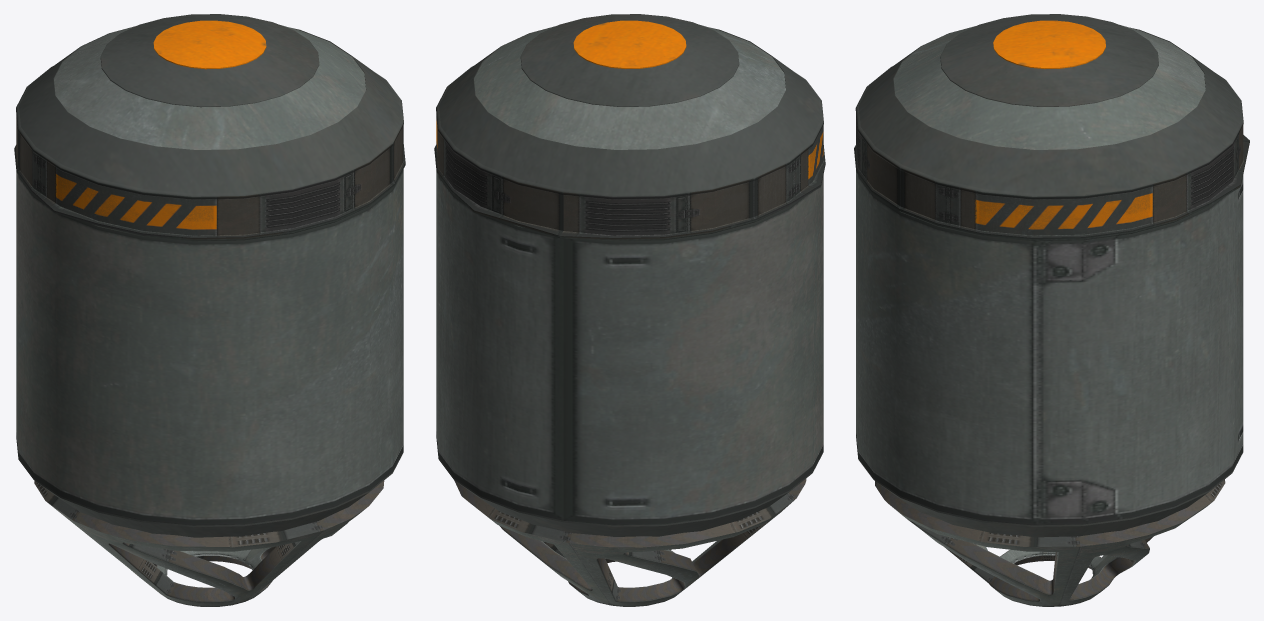
The model's file is OilTank_big.FBX.
3 views of the same model, side by side, from view 1: azimuth 30°, elevation 25°; view 2: azimuth 150°, elevation 25°; view 3: azimuth 270°, elevation 25° (orthographic).
Visible parts, largest first — view 1: OilTank_bog; view 2: OilTank_bog; view 3: OilTank_bog.
Boxes of the visible parts, x1=… form: OilTank_bog: x1=14, y1=14, x2=405, y2=606; OilTank_bog: x1=434, y1=14, x2=825, y2=606; OilTank_bog: x1=854, y1=14, x2=1249, y2=606.
Bounding box in the file's own units: 9.13 × 9.13 × 13.84.
